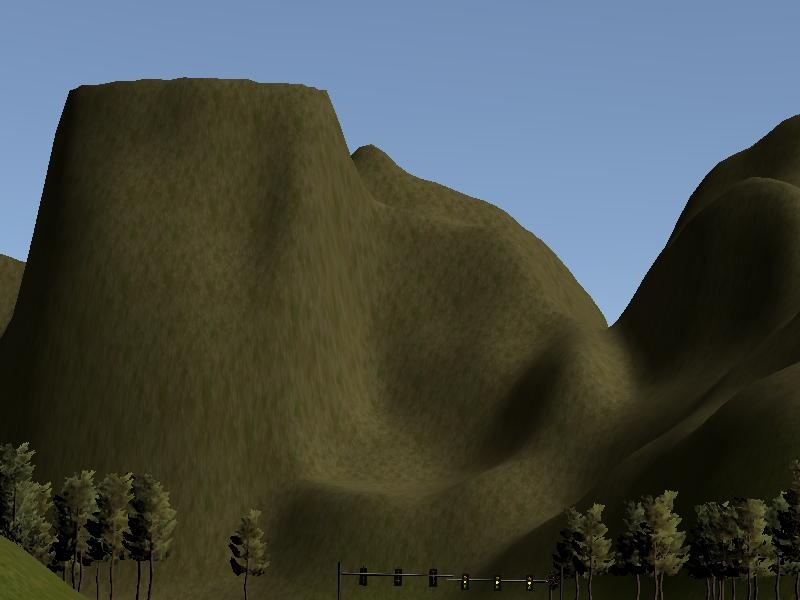yellow: (493, 573, 502, 591), (525, 574, 534, 592), (462, 573, 470, 591)
